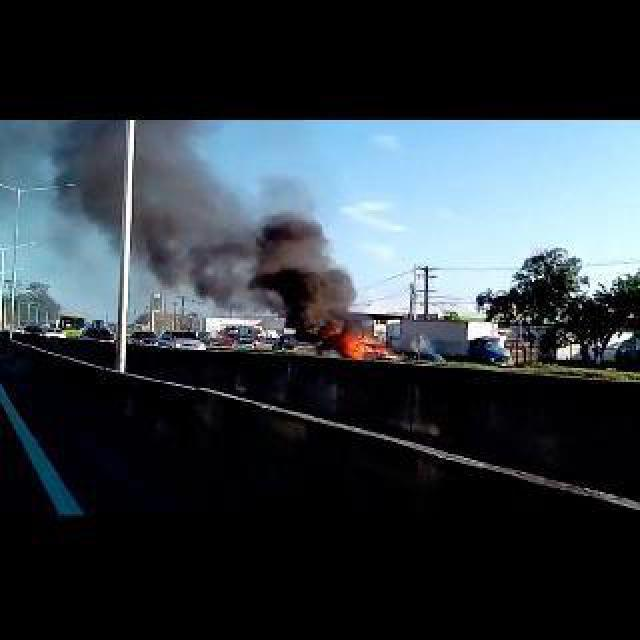Fire: (343, 327, 376, 362)
Smoke: (11, 126, 300, 284), (184, 196, 376, 351)
